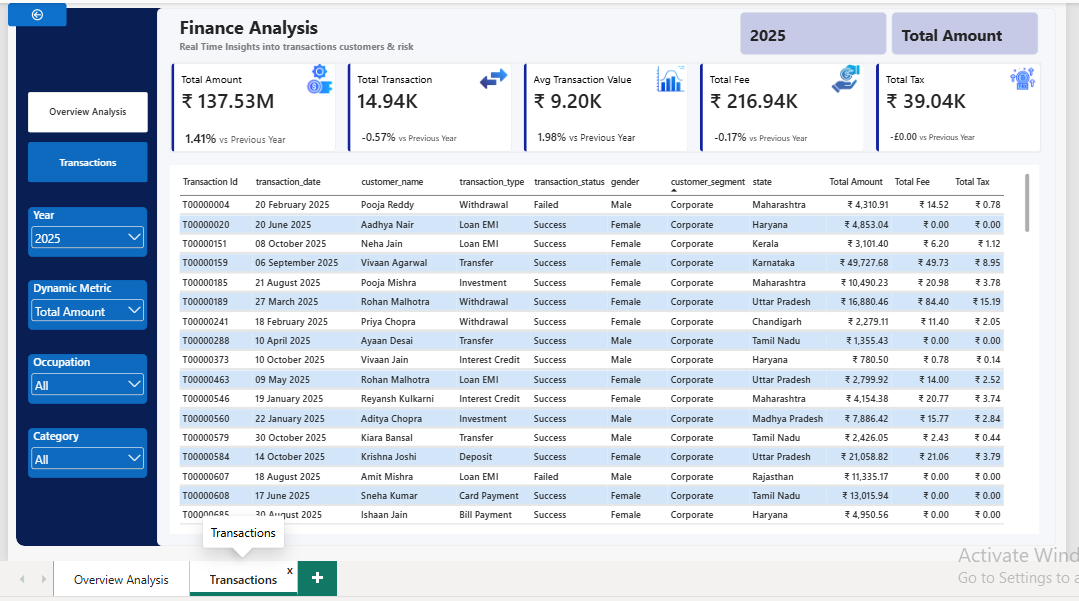

This screenshot's page, from the dashboard's own definition file:
{"tool":"powerbi","page":{"name":"Transactions","canvas":[1800,950],"ordinal":1},"visuals":[{"type":"shape","box":[13.5,7.7,280.6,916],"z":0},{"type":"shape","box":[254,8,1530,916],"z":1000},{"type":"cardVisual","fields":{"Data":["finance_transactions.Dashboard Title"]},"box":[276,8,443.2,87.1],"z":2000},{"type":"cardVisual","fields":{"Data":["finance_transactions.Total Amount","finance_transactions.Total Transaction","finance_transactions.Avg Transaction Value","finance_transactions.Total Fee","finance_transactions.Total Tax"]},"box":[276,100,1488,155],"z":3000},{"type":"image","box":[505.2,103.7,50,50],"z":4000},{"type":"image","box":[797.4,103.7,60,50.3],"z":5000},{"type":"image","box":[1395.5,103.7,60,50.3],"z":6000},{"type":"image","box":[1097.4,103.7,60,50.3],"z":7000},{"type":"image","box":[1698,104,60,50],"z":8000},{"type":"shape","box":[276,276,1480,628],"z":9000},{"type":"cardVisual","fields":{"Data":["finance_transactions.Selected Year","finance_transactions.Selected Dynamic Metric"]},"box":[1246.5,15.5,509,73.5],"z":10000},{"type":"tableEx","fields":{"Values":["finance_transactions.transaction_id","finance_transactions.transaction_date","customers.customer_name","finance_transactions.transaction_type","finance_transactions.transaction_status","customers.gender","customers.customer_segment","customers.state","finance_transactions.Total Amount","finance_transactions.Total Fee","finance_transactions.Total Tax"]},"box":[276,276,1480,628],"z":11000},{"type":"actionButton","box":[0,0,100,40],"z":12000},{"type":"slicer","fields":{"Values":["calendar Table.Year"]},"box":[34.7,346.6,203.2,85.2],"z":13000},{"type":"slicer","fields":{"Values":["Dynamic Metric.Dynamic Metric"]},"box":[34.5,472.4,203.2,85.2],"z":14000},{"type":"slicer","fields":{"Values":["customers.occupation"]},"box":[34.2,598.2,203.2,85.2],"z":15000},{"type":"slicer","fields":{"Values":["finance_transactions.merchant_category"]},"box":[34,724,203.2,85.2],"z":16000},{"type":"pageNavigator","box":[34,152,204,154],"z":17000}]}

Visuals, with their boxes on the page's 1800x950 design canvas (x1, y1, x2, y2). These are canvas units, not pixel positions in the 1079x601 screenshot, which may show the page scaled, cropped or inside an application window:
shape: Rect(14, 8, 294, 924)
shape: Rect(254, 8, 1784, 924)
cardVisual - finance_transactions.Dashboard Title: Rect(276, 8, 719, 95)
cardVisual - finance_transactions.Total Amount x finance_transactions.Total Transaction: Rect(276, 100, 1764, 255)
image: Rect(505, 104, 555, 154)
image: Rect(797, 104, 857, 154)
image: Rect(1396, 104, 1456, 154)
image: Rect(1097, 104, 1157, 154)
image: Rect(1698, 104, 1758, 154)
shape: Rect(276, 276, 1756, 904)
cardVisual - finance_transactions.Selected Year x finance_transactions.Selected Dynamic Metric: Rect(1246, 16, 1756, 89)
tableEx - finance_transactions.transaction_id x finance_transactions.transaction_date: Rect(276, 276, 1756, 904)
actionButton: Rect(0, 0, 100, 40)
slicer - calendar Table.Year: Rect(35, 347, 238, 432)
slicer - Dynamic Metric.Dynamic Metric: Rect(34, 472, 238, 558)
slicer - customers.occupation: Rect(34, 598, 237, 683)
slicer - finance_transactions.merchant_category: Rect(34, 724, 237, 809)
pageNavigator: Rect(34, 152, 238, 306)
